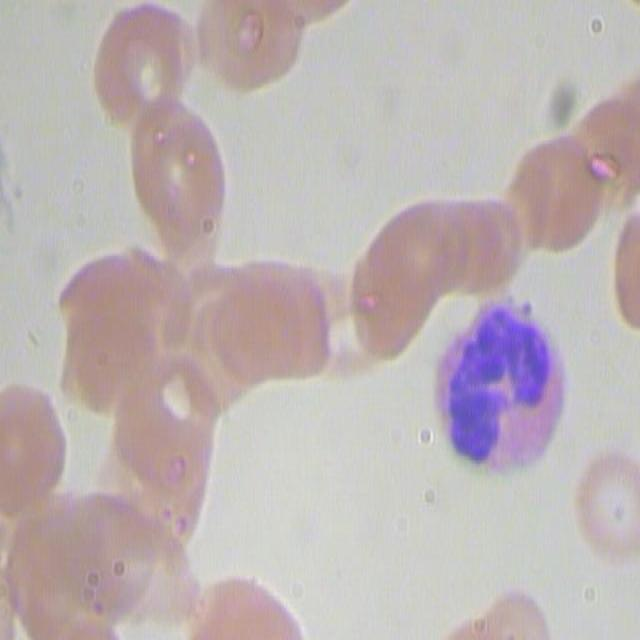RBC: (0, 491, 210, 636), (58, 235, 186, 410), (191, 251, 335, 392), (125, 92, 228, 284), (341, 213, 442, 366), (90, 1, 192, 129), (507, 132, 602, 258), (180, 1, 306, 94), (3, 371, 75, 524), (574, 63, 640, 208), (184, 576, 318, 640), (569, 448, 640, 566), (448, 580, 567, 640)
WBC: (427, 300, 566, 493)
